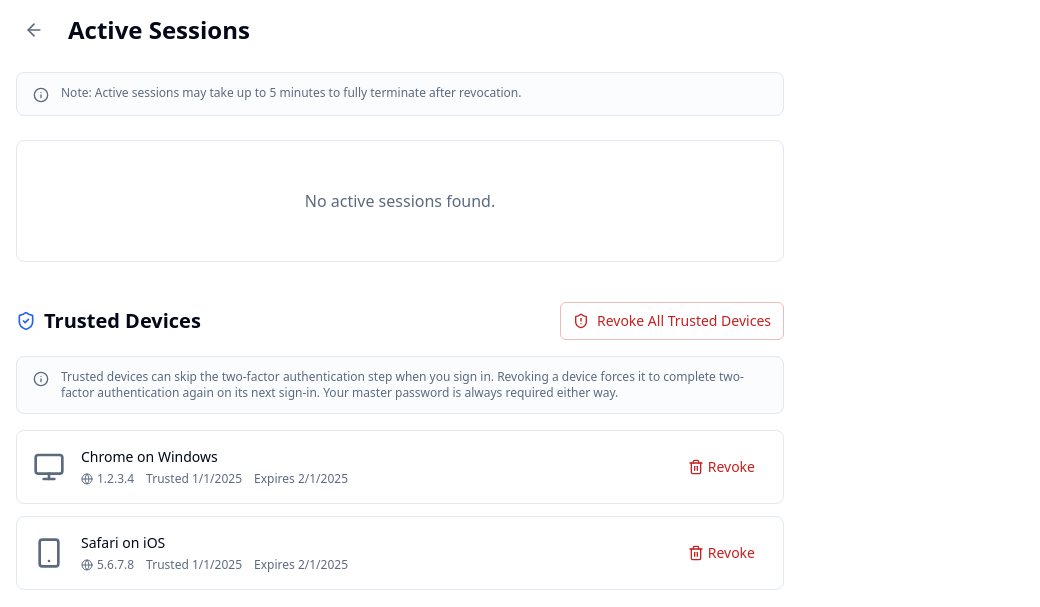
Test: Trusted devices - single revoke › removes the revoked row and confirms with a success toast
Expected: the text "Chrome on Windows" is shown, [81,447,218,466]
Revoke the Chrome/Windows device (td1).
Click the button "Revoke" in the row of "Windows" at (721, 467), box [676,451,767,483]
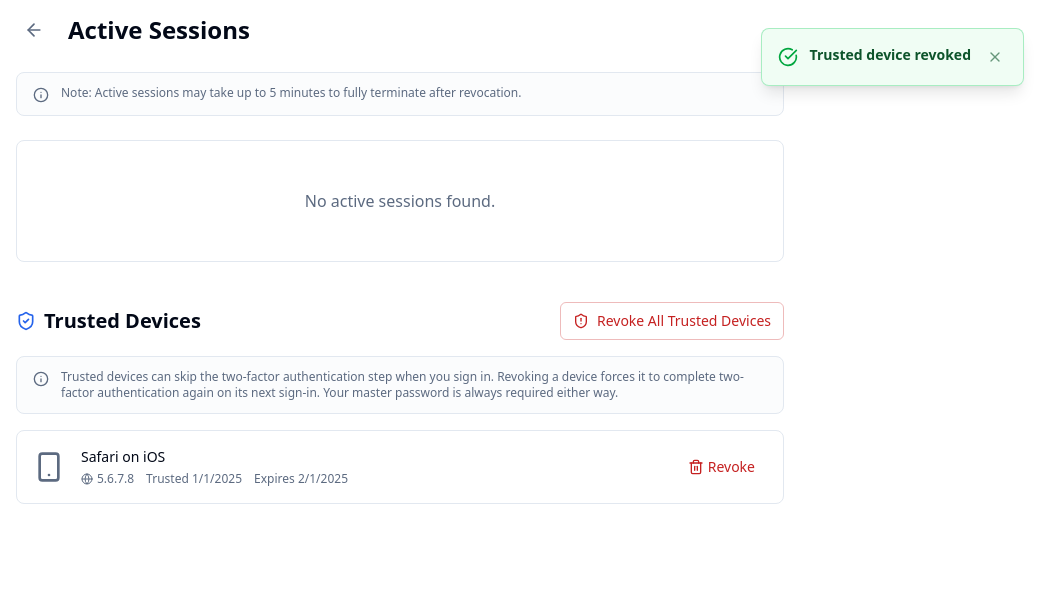
Now the text "Trusted device revoked" is shown, box [810,45,971,65]
Now the number of buttons "Revoke" is 1, box [676,451,767,483]
